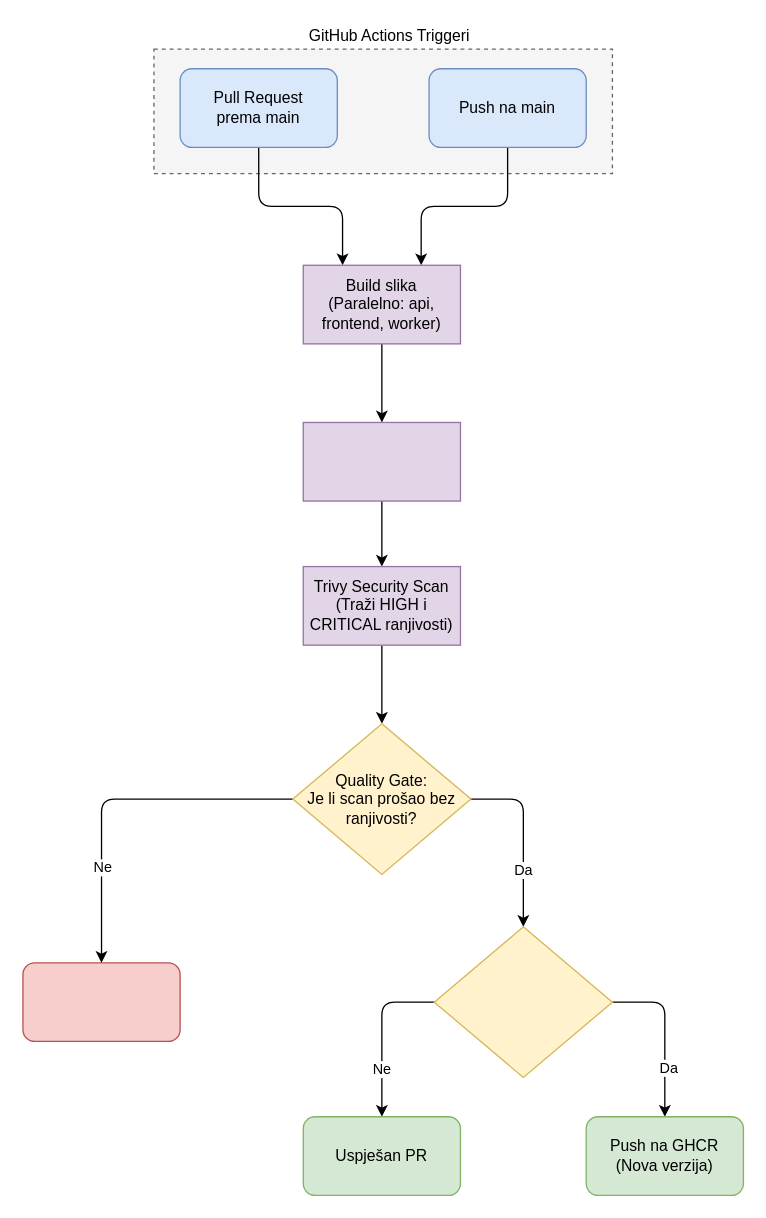
This 766x1218 diagram has some shape labels left out. Each missing label, with the centre of its shape:
Je li trigger bio Push na main?: [522,1001]
Load slika u lokalni daemon (Bez slanja na internet): [381,461]
Pipeline pada - ranjiva slika blokirana: [101,1001]
